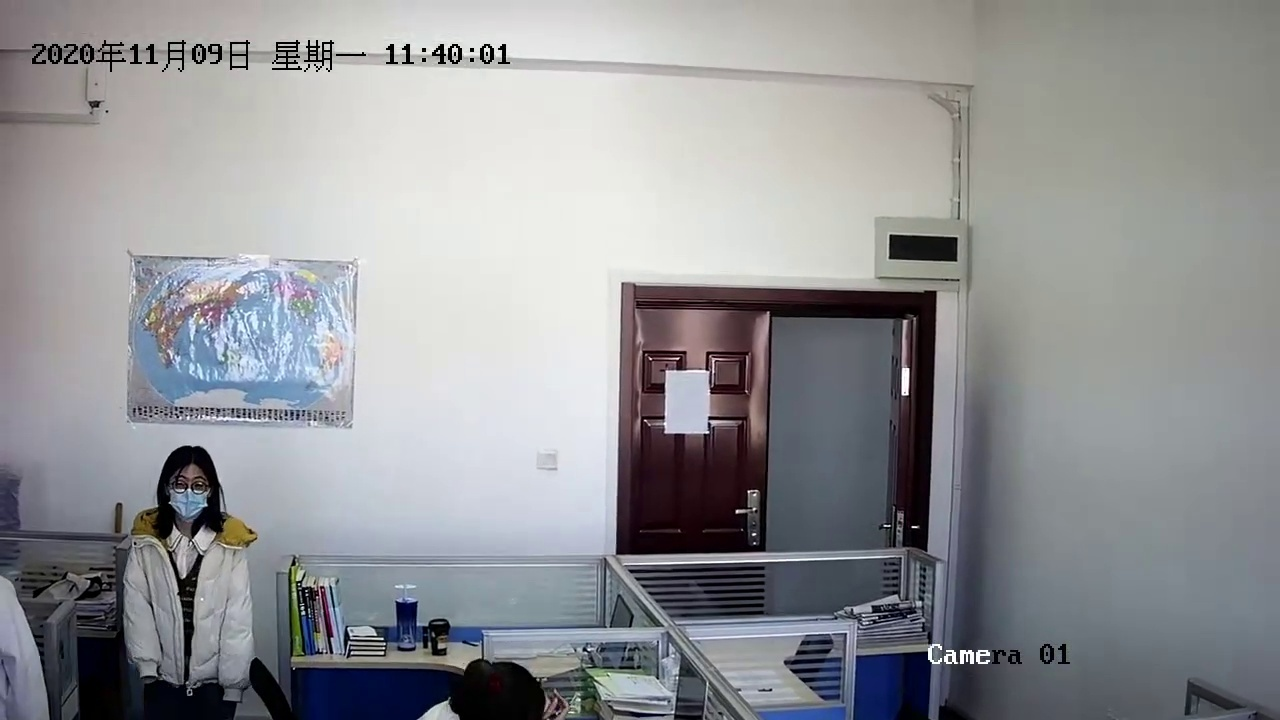mask: (162, 451, 220, 532)
